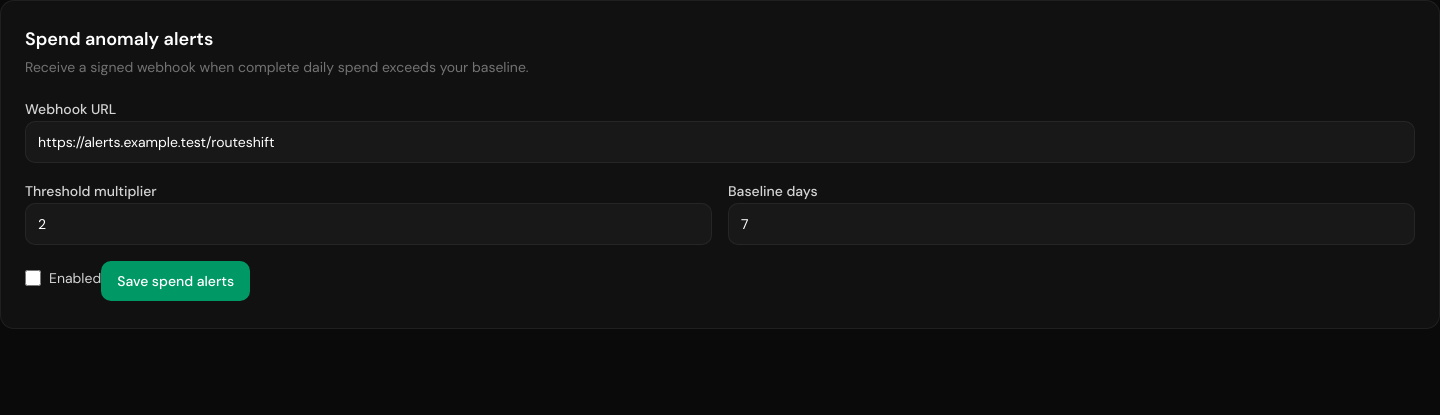
Test: SpendAnomalySettings › saves validated settings and shows confirmation
expect the field labelled "Webhook URL" is shown: met, box [25,121,1415,163]
Replace the text in the number field labelled "Threshold multiplier" with "3" at (368, 224), box [25,203,712,245]
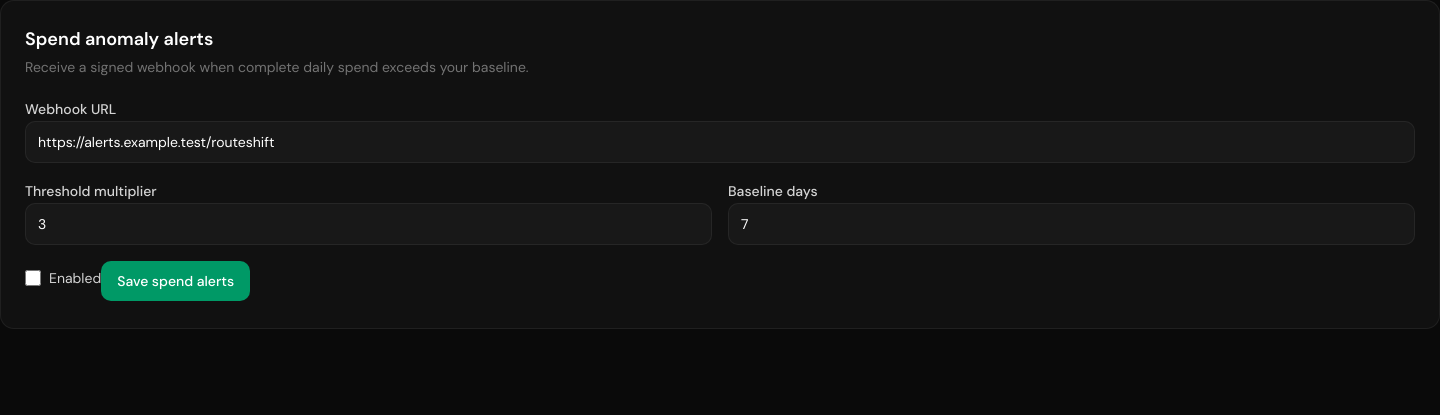
Replace the text in the number field labelled "Baseline days" with "14" at (1072, 224), box [728,203,1415,245]
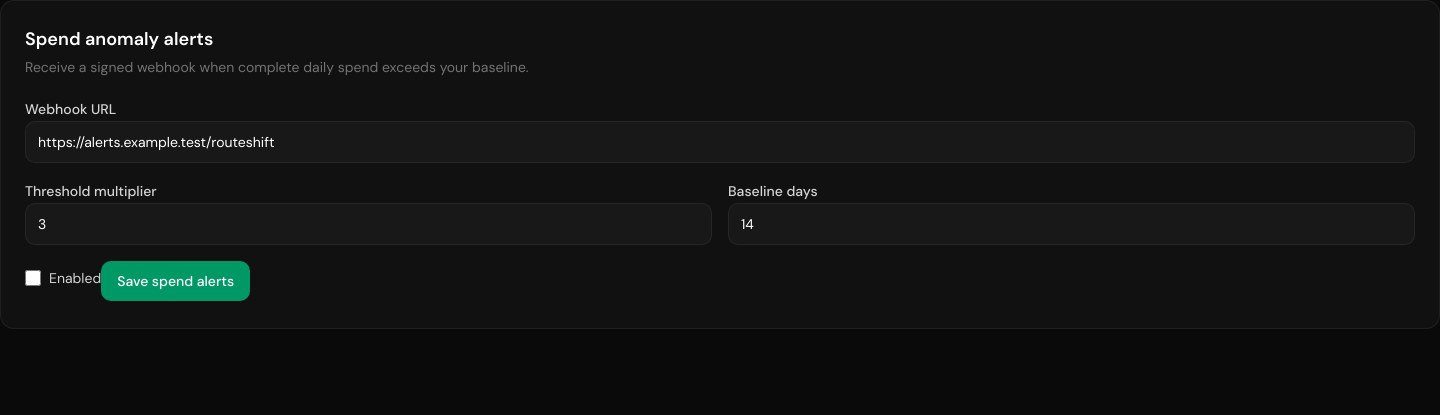
Click the checkbox labelled "Enabled" at (33, 278), box [25,270,41,286]
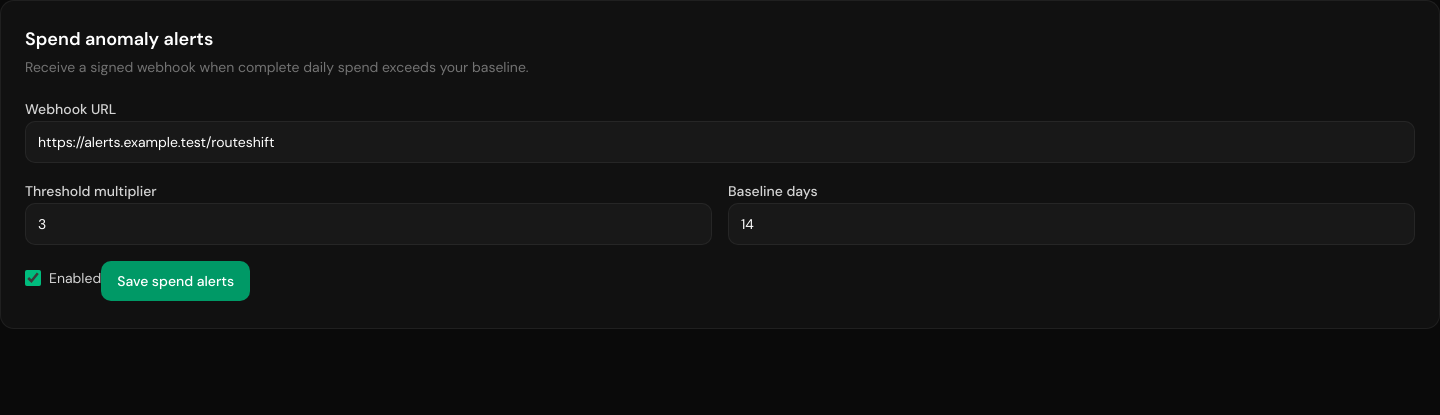
Click the button "Save spend alerts" at (176, 281), box [101,261,250,301]
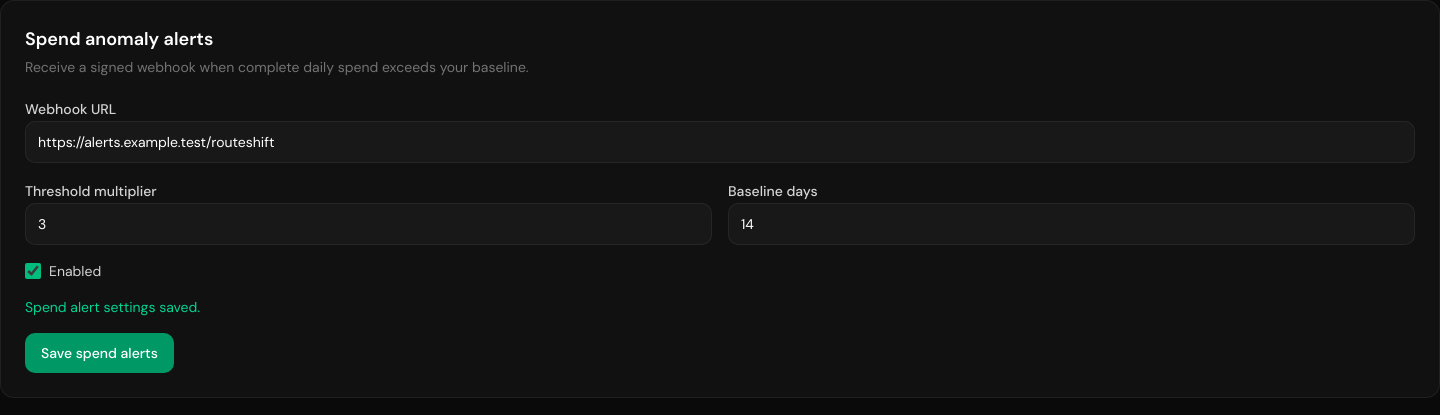
expect the text "Spend alert settings saved." is shown: met, box [25,298,200,316]
